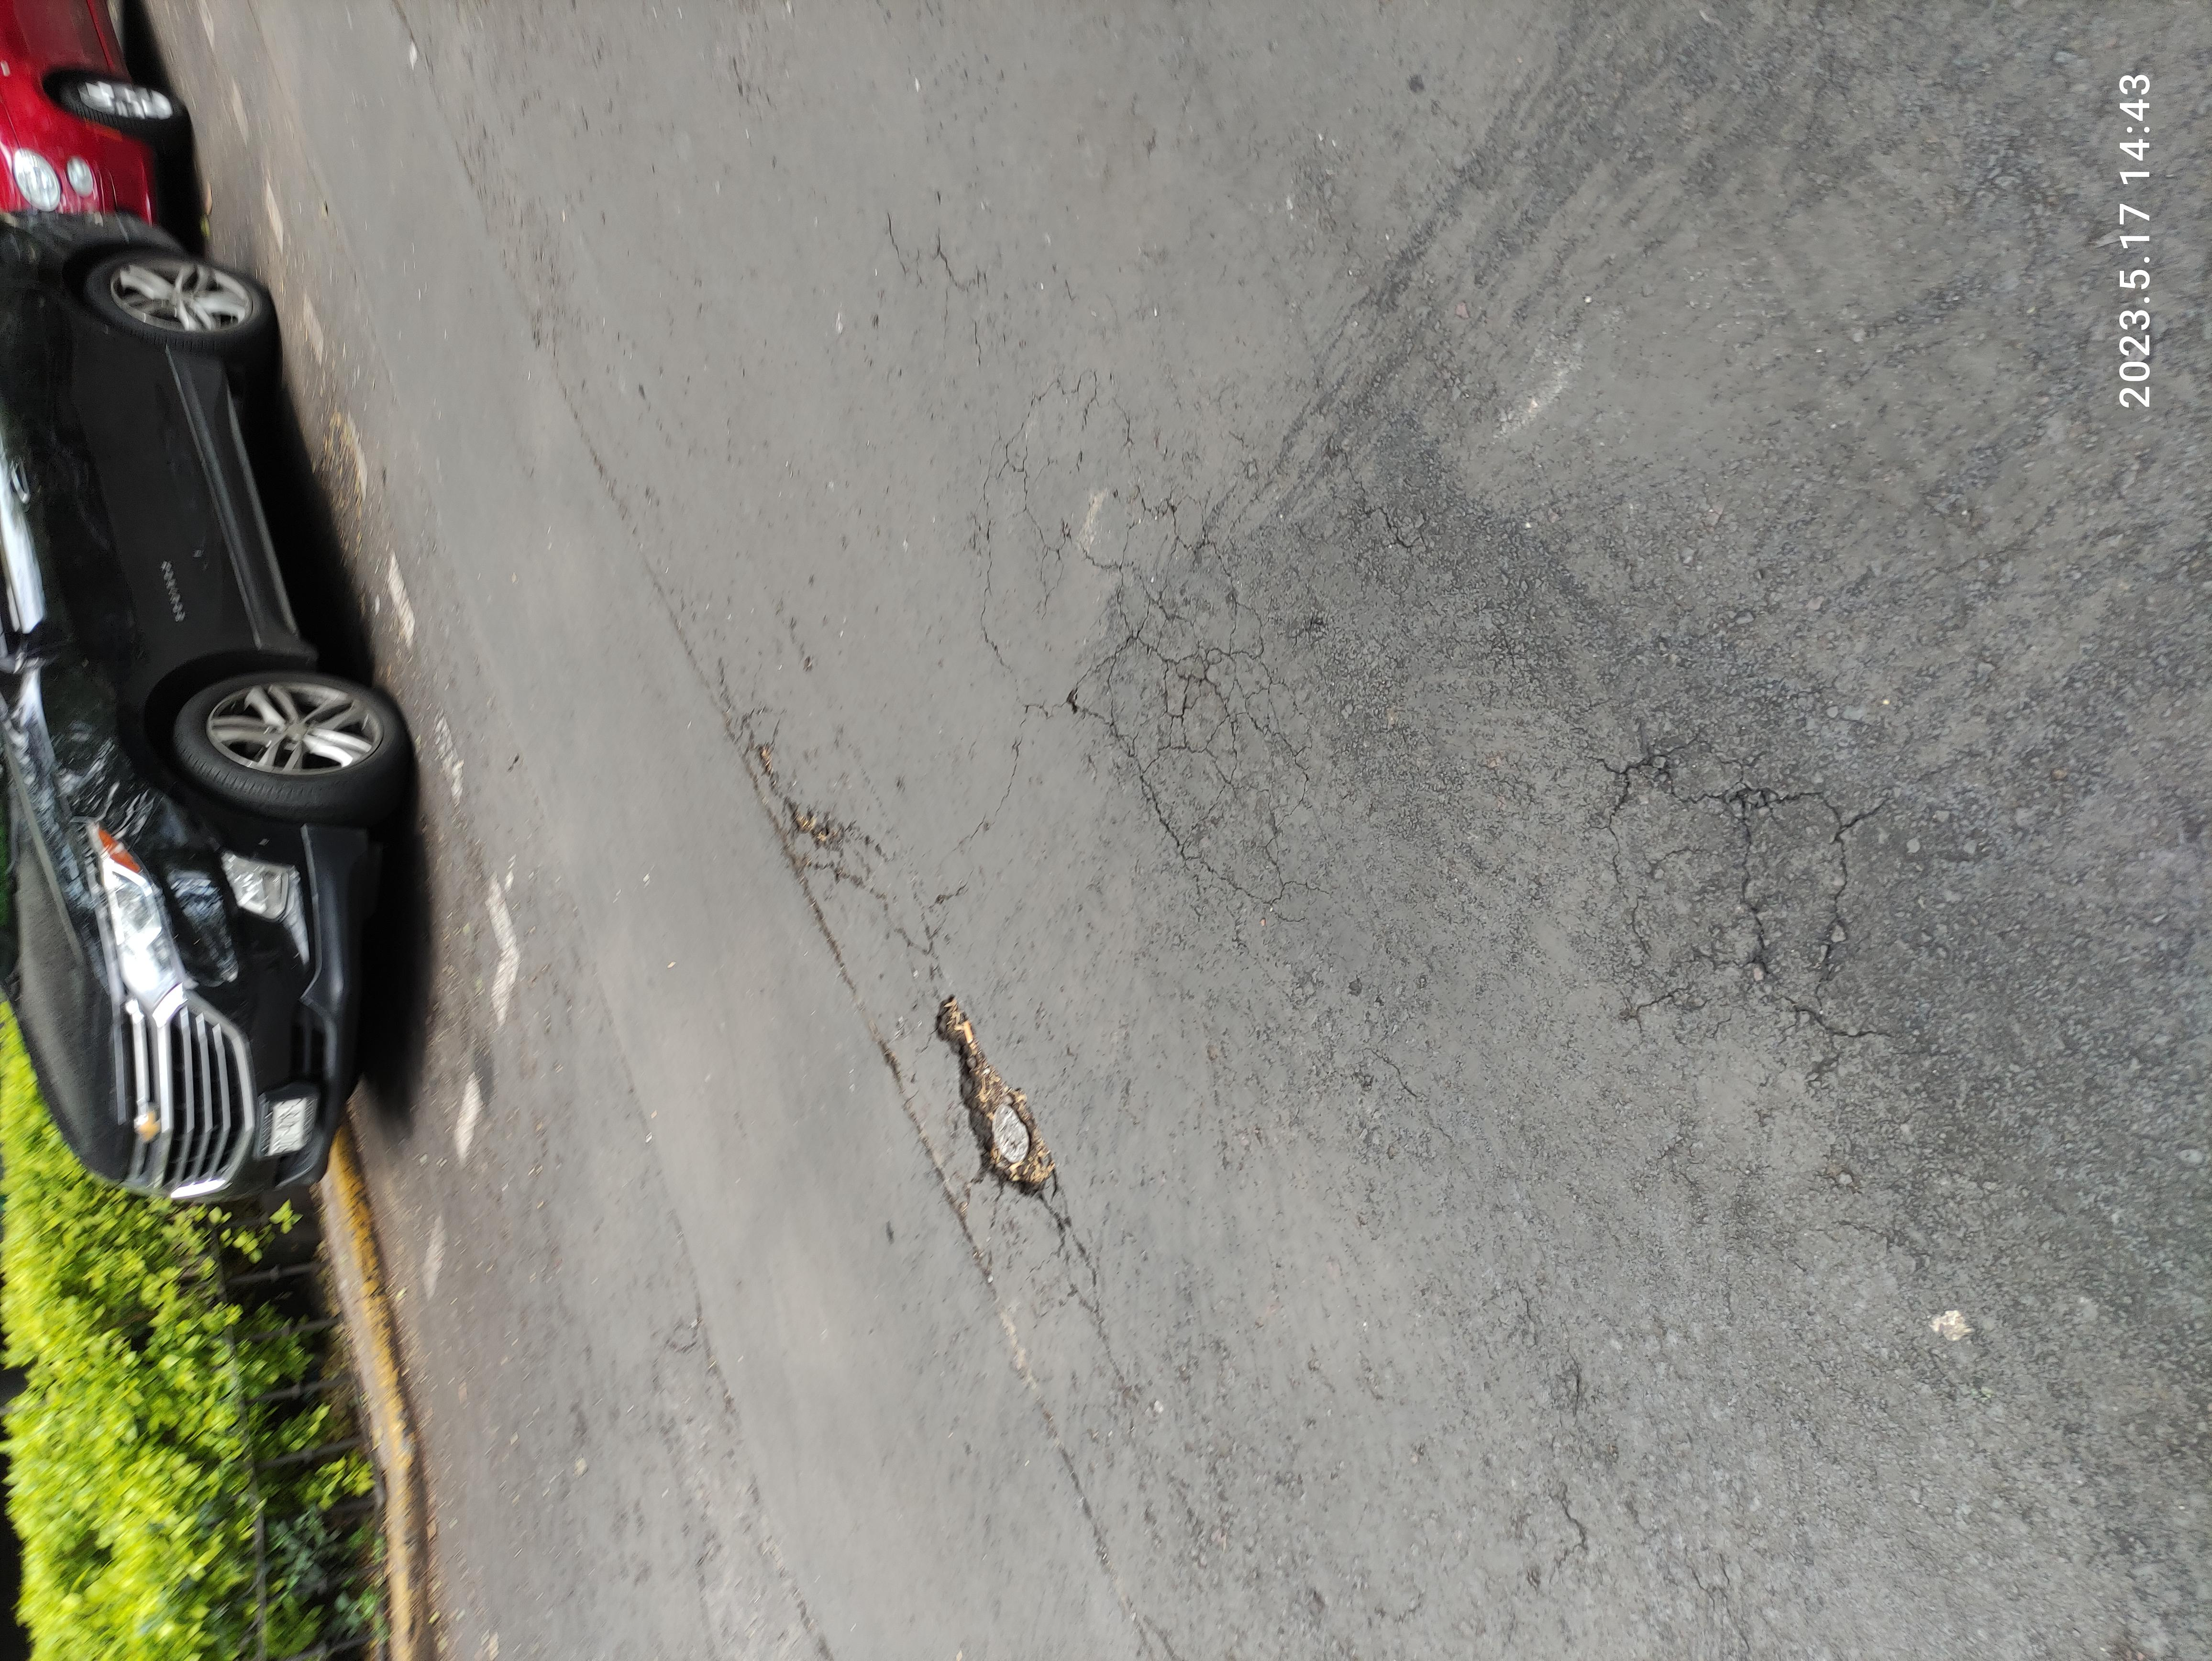alligator-crack: (783, 1183, 1230, 1434), (1029, 780, 1565, 961)
crack: (987, 534, 1319, 673)
pothole: (563, 691, 886, 803)
